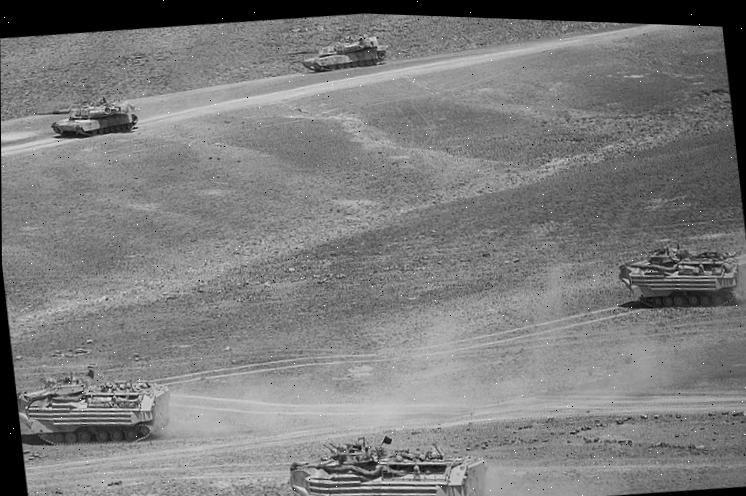tank: (14, 358, 183, 457), (283, 418, 495, 496), (613, 236, 746, 320), (32, 89, 145, 146), (280, 26, 392, 82)
